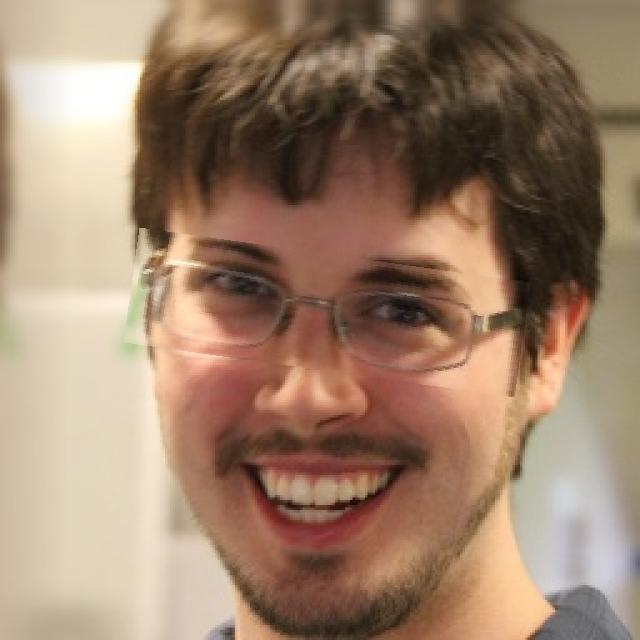glasses: (126, 242, 527, 384)
